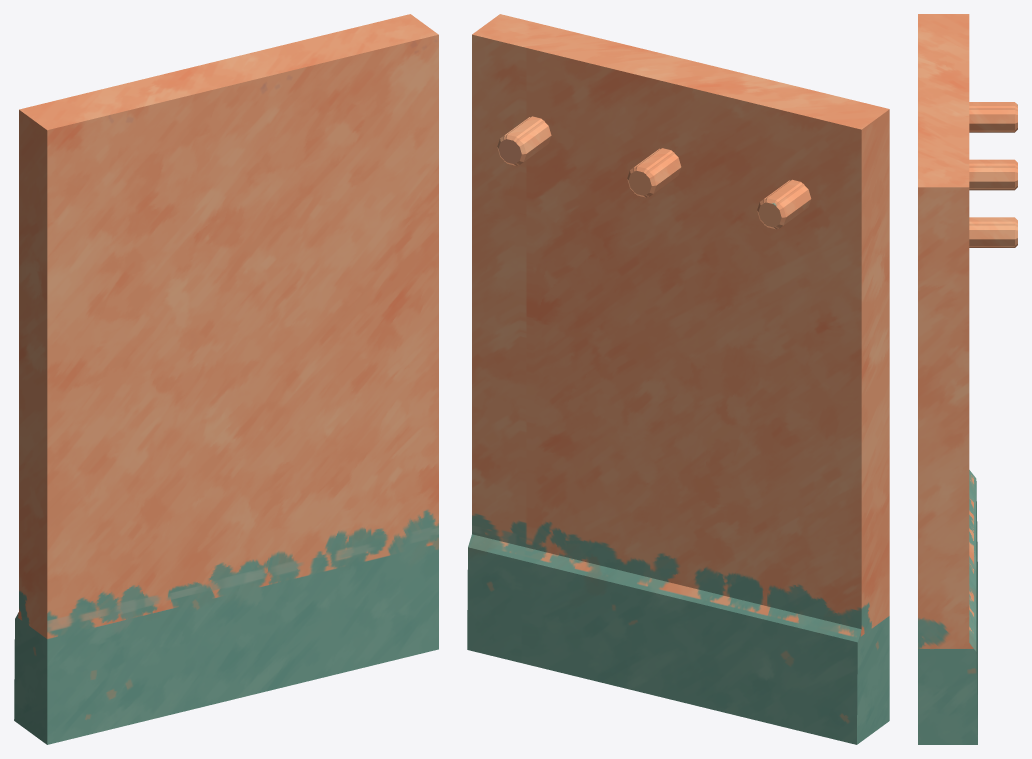
The model's file is wall_plain.bundle.fbx.
3 views of the same model, side by side, from view 1: azimuth 30°, elevation 25°; view 2: azimuth 150°, elevation 25°; view 3: azimuth 270°, elevation 25° (orthographic). The views are drawn at different scales.
Parts seen in each view (by area): view 1: wall_plain, wall_plain_s10, wall_plain_s06, wall_plain_s04, wall_plain_s00, wall_plain_s08, wall_plain_s09, wall_plain_s11, wall_plain_s07, wall_plain_s05, wall_plain_s01, wall_plain_s03 (+1 smaller); view 2: wall_plain, wall_plain_s10, wall_plain_s04, wall_plain_s06, wall_plain_s11, wall_plain_s07, wall_plain_s08, wall_plain_s00, wall_plain_s05, wall_plain_s09, wall_plain_s03, wall_plain_s02 (+2 smaller); view 3: wall_plain, wall_plain_s00, wall_plain_s10, wall_plain_s11, wall_plain_s04, wall_plain_s05, wall_plain_low, wall_plain_s02, wall_plain_s01.
Part boxes in pixels (bbox=[...]): wall_plain: bbox=[14, 14, 438, 744]; wall_plain_s10: bbox=[295, 225, 438, 521]; wall_plain_s06: bbox=[186, 362, 404, 596]; wall_plain_s04: bbox=[144, 56, 373, 335]; wall_plain_s00: bbox=[244, 15, 438, 231]; wall_plain_s08: bbox=[19, 460, 192, 641]; wall_plain_s09: bbox=[19, 369, 219, 526]; wall_plain_s11: bbox=[19, 69, 194, 272]; wall_plain_s07: bbox=[160, 319, 304, 434]; wall_plain_s05: bbox=[284, 521, 438, 681]; wall_plain_s01: bbox=[18, 607, 127, 744]; wall_plain_s03: bbox=[19, 258, 174, 426]; wall_plain: bbox=[467, 14, 889, 744]; wall_plain_s10: bbox=[472, 218, 617, 525]; wall_plain_s04: bbox=[542, 54, 754, 311]; wall_plain_s06: bbox=[522, 387, 726, 592]; wall_plain_s11: bbox=[695, 73, 889, 292]; wall_plain_s07: bbox=[597, 293, 791, 477]; wall_plain_s08: bbox=[719, 464, 889, 623]; wall_plain_s00: bbox=[472, 14, 655, 224]; wall_plain_s05: bbox=[467, 526, 647, 692]; wall_plain_s09: bbox=[712, 391, 889, 517]; wall_plain_s03: bbox=[744, 282, 861, 429]; wall_plain_s02: bbox=[647, 571, 766, 701]; wall_plain: bbox=[918, 14, 1017, 744]; wall_plain_s00: bbox=[918, 113, 969, 360]; wall_plain_s10: bbox=[918, 356, 968, 630]; wall_plain_s11: bbox=[918, 14, 969, 87]; wall_plain_s04: bbox=[918, 79, 969, 113]; wall_plain_s05: bbox=[918, 583, 977, 733]; wall_plain_low: bbox=[969, 103, 1017, 247]; wall_plain_s02: bbox=[971, 518, 977, 654]; wall_plain_s01: bbox=[969, 471, 977, 599].
Bounding box in the file's own units: 8 × 12 × 1.95.
1 material, 1 textured.
